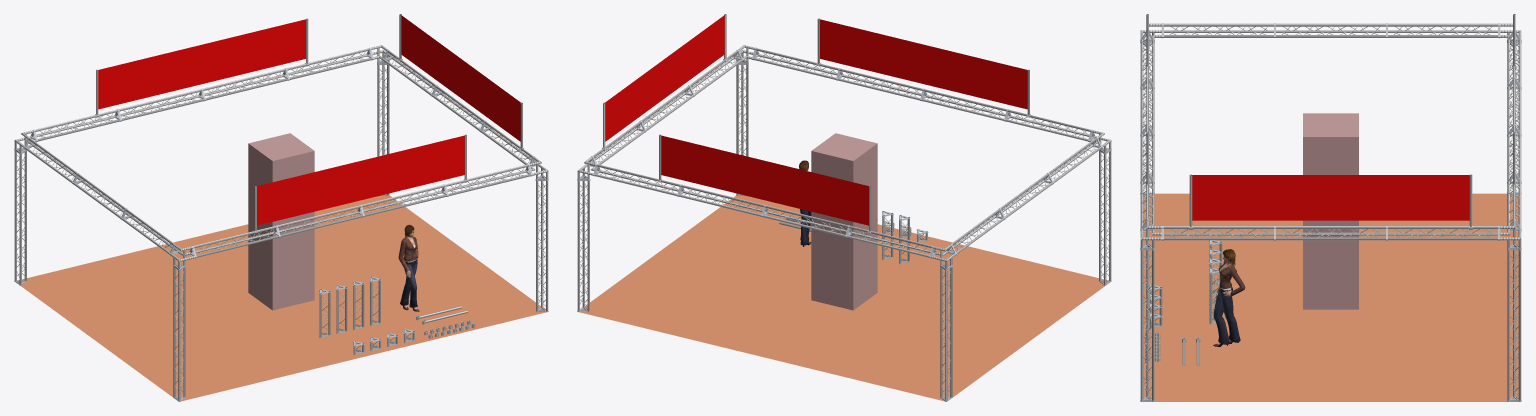
Rendered from ALU_TRUSS-cf119dba.glb.
3 renders of one model, left to right at view 1: azimuth 30°, elevation 25°; view 2: azimuth 150°, elevation 25°; view 3: azimuth 270°, elevation 25°, orthographic. The views are drawn at different scales.
Visible parts, largest first — view 1: Geom3D_ (×2), Geom3D (×2); view 2: Geom3D_ (×2), Geom3D; view 3: Geom3D_ (×17), Geom3D (×2).
Boxes of the visible parts, left/top/right/bottom form: Geom3D_ (×2): left=16, top=133, right=545, bottom=401; Geom3D (×2): left=98, top=15, right=520, bottom=311; Geom3D_ (×2): left=580, top=133, right=1109, bottom=401; Geom3D: left=605, top=15, right=1027, bottom=225; Geom3D_ (×17): left=1140, top=23, right=1521, bottom=401; Geom3D (×2): left=1192, top=175, right=1469, bottom=346.
Size of the model in its own units: 8.81 by 4.41 by 6.81.
Materials: 9 (6 with a texture image).
